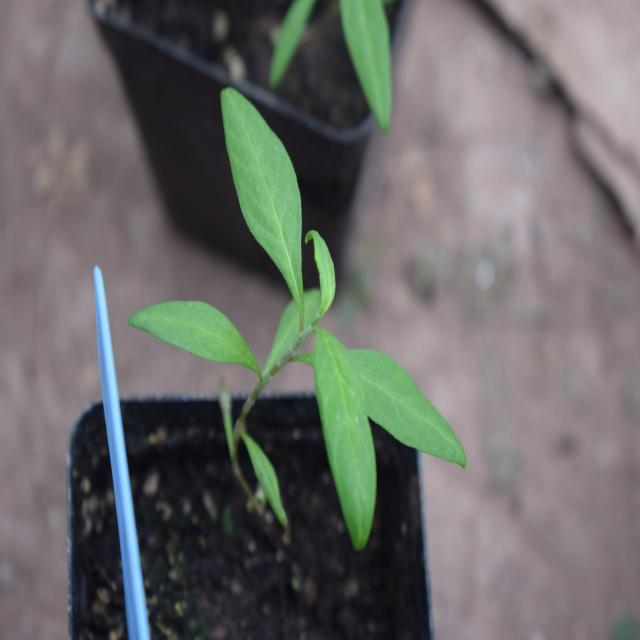white_smart_weed: (143, 90, 465, 527)
